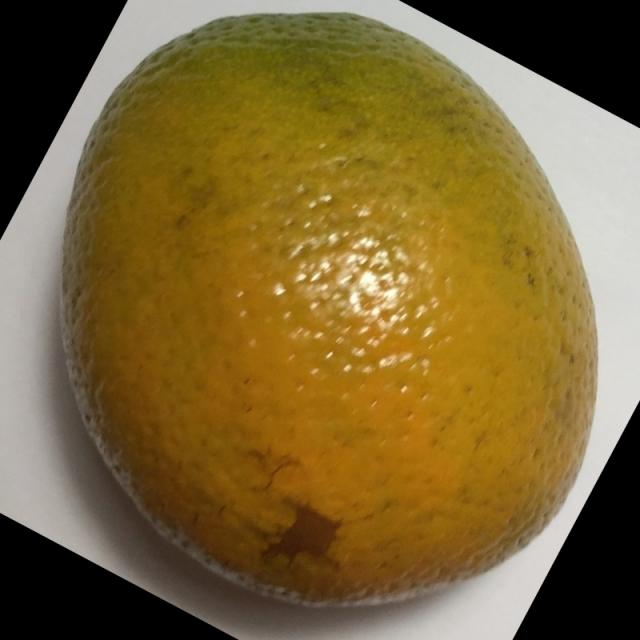canker: (48, 8, 612, 624)
